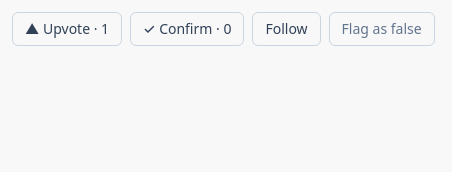
Test: VoteBar › undoes an upvote with DELETE
The width and height of the screenshot is (452, 172).
Click the button "▲ Upvote · 1".
click(67, 29)  # box left=12, top=12, right=122, bottom=46
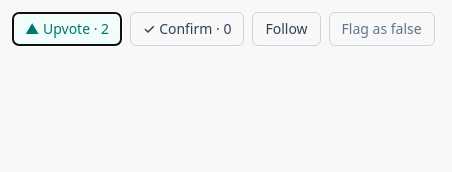
Click the button "▲ Upvote · 2".
click(67, 29)  # box left=12, top=12, right=122, bottom=46
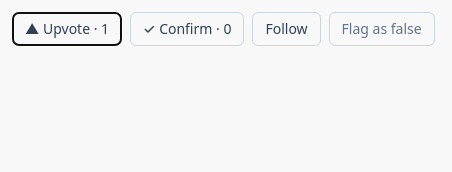
expect the button "▲ Upvote · 1" is shown: met, box left=12, top=12, right=122, bottom=46
